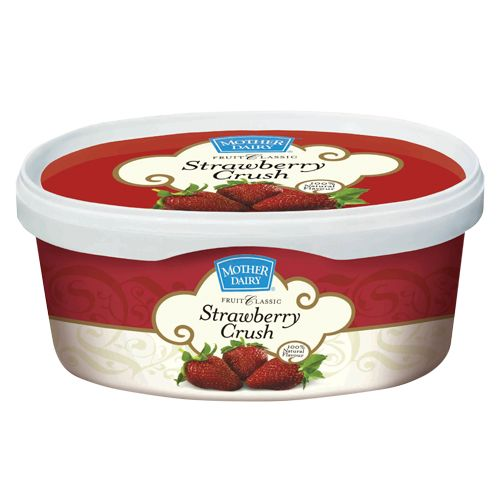Mother_Dairy: (213, 256, 278, 294), (210, 134, 298, 160)
